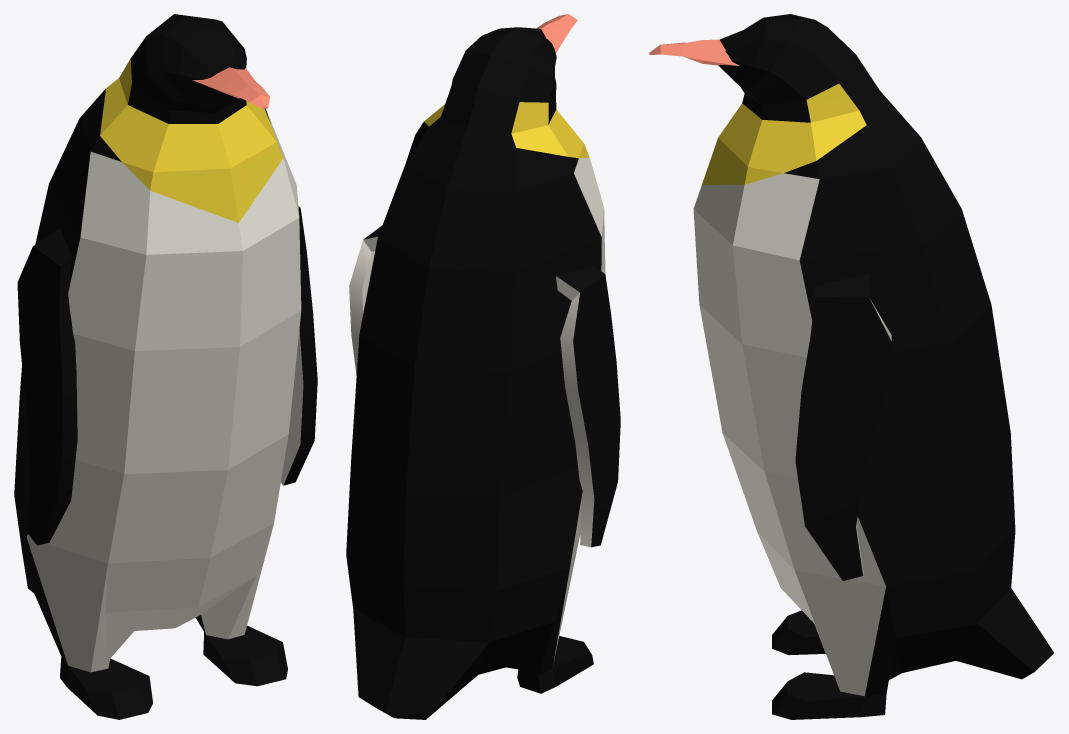
The model's file is fBXvsC6pe_V.glb.
3 renders of one model, left to right at view 1: azimuth 30°, elevation 25°; view 2: azimuth 150°, elevation 25°; view 3: azimuth 270°, elevation 25°, orthographic. The views are drawn at different scales.
Parts seen in each view (by area): view 1: Geo_Penguin; view 2: Geo_Penguin; view 3: Geo_Penguin.
Boxes of the visible parts, x1,y1,x2,y2 form: Geo_Penguin: (14, 14, 317, 719); Geo_Penguin: (346, 14, 620, 719); Geo_Penguin: (649, 14, 1053, 719).
Bounding box in the file's own units: 0.4019 × 1 × 0.5598.
Materials: 1 (1 with a texture image).
